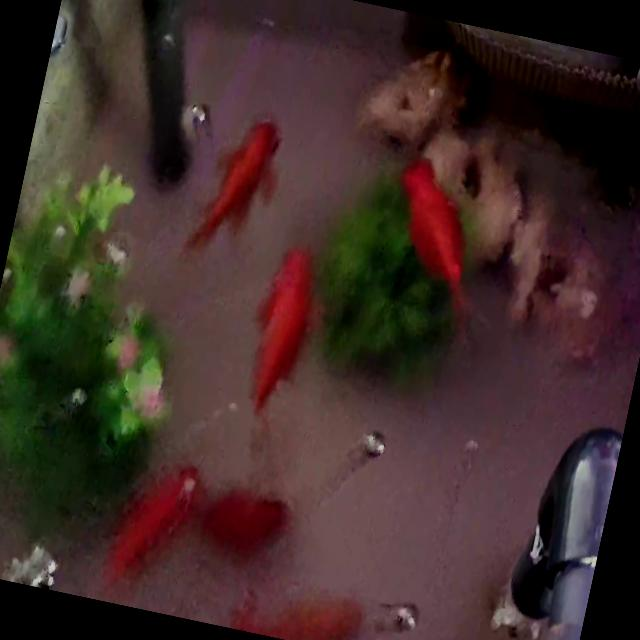fish: (371, 152, 502, 340), (180, 107, 288, 269), (234, 242, 325, 425), (100, 450, 201, 593), (188, 476, 293, 558), (255, 577, 355, 640)
